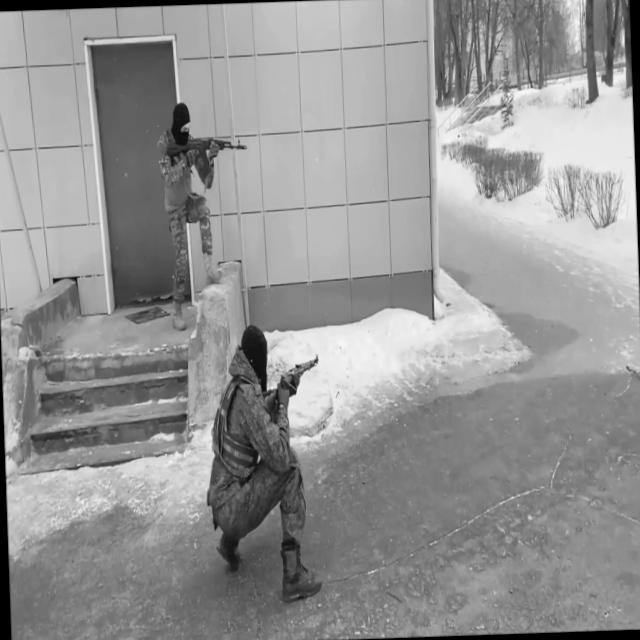gun: (260, 351, 324, 428), (166, 131, 250, 176)
person: (202, 320, 324, 605), (158, 100, 225, 333)
person with a gun: (202, 320, 328, 604), (158, 98, 255, 330)
